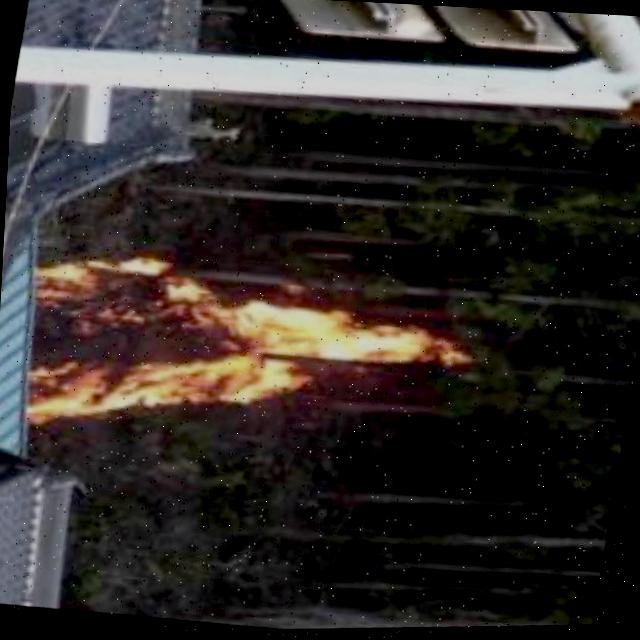fire: (17, 230, 457, 488)
